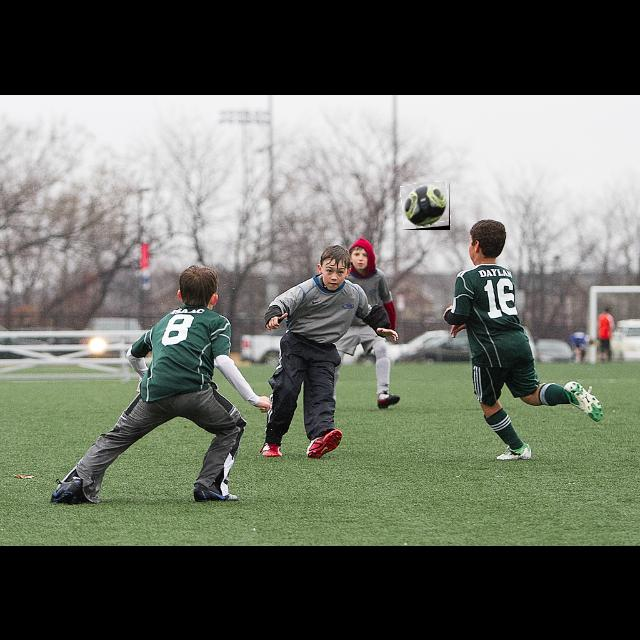Football: (402, 182, 450, 230)
